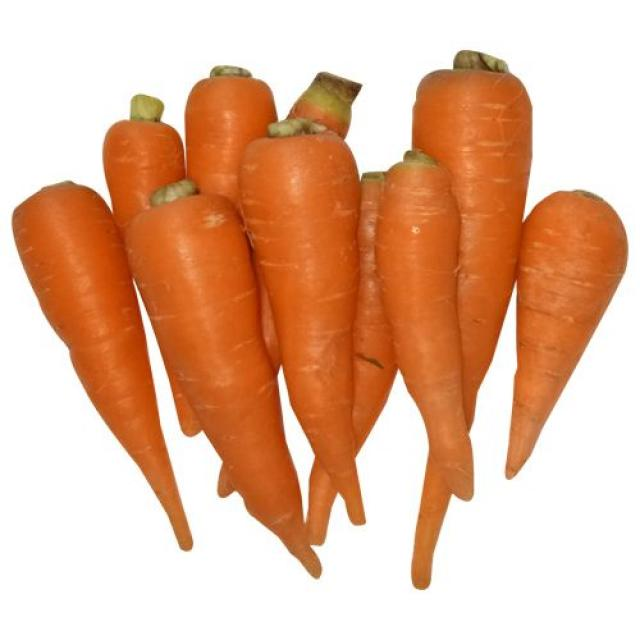Fresh_Carrot: (127, 187, 320, 574), (17, 179, 194, 558), (405, 55, 553, 446), (243, 122, 364, 524), (504, 189, 615, 483), (190, 66, 283, 344)
